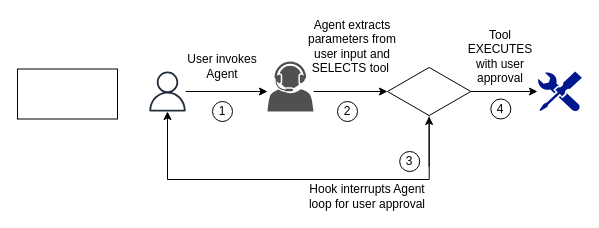
The diagram is 599 pixels wide and 228 high, and some of its shapes have lost their labels. Here are the shapes that lost their labels. From the top down, the box of each, then its label:
(16, 68, 118, 119): Tool execution: interrupt with hooks
(386, 66, 471, 116): Hook
